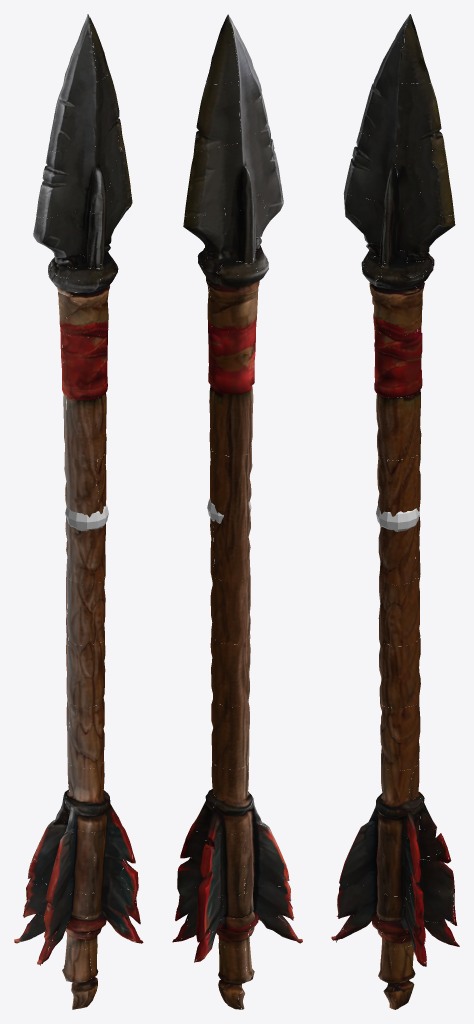
The model's file is freccia.glb.
The picture shows the model from 3 angles, left to right: view 1: azimuth 30°, elevation 25°; view 2: azimuth 210°, elevation 25°; view 3: azimuth 330°, elevation 25°; orthographic projection.
Parts seen in each view (by area): view 1: tripo_node_285d6ef9-3ff5-4b7c-ae82-07e9e5f44f99, Sphere; view 2: tripo_node_285d6ef9-3ff5-4b7c-ae82-07e9e5f44f99; view 3: tripo_node_285d6ef9-3ff5-4b7c-ae82-07e9e5f44f99, Sphere.
Part boxes in pixels (bbox=[...]): tripo_node_285d6ef9-3ff5-4b7c-ae82-07e9e5f44f99: bbox=[14, 14, 143, 1009]; Sphere: bbox=[65, 500, 108, 531]; tripo_node_285d6ef9-3ff5-4b7c-ae82-07e9e5f44f99: bbox=[172, 14, 302, 1009]; tripo_node_285d6ef9-3ff5-4b7c-ae82-07e9e5f44f99: bbox=[331, 14, 459, 1009]; Sphere: bbox=[376, 506, 419, 531].
Bounding box in the file's own units: 0.1153 × 1 × 0.0683.
2 materials, 1 textured.
